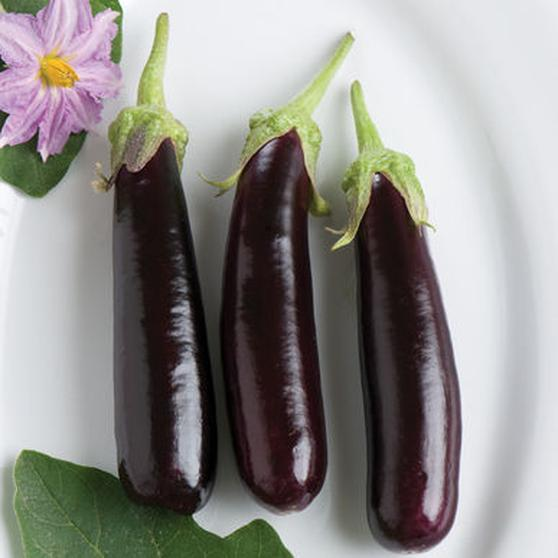eggplant: (217, 111, 327, 514), (350, 152, 460, 546), (109, 115, 215, 511)
